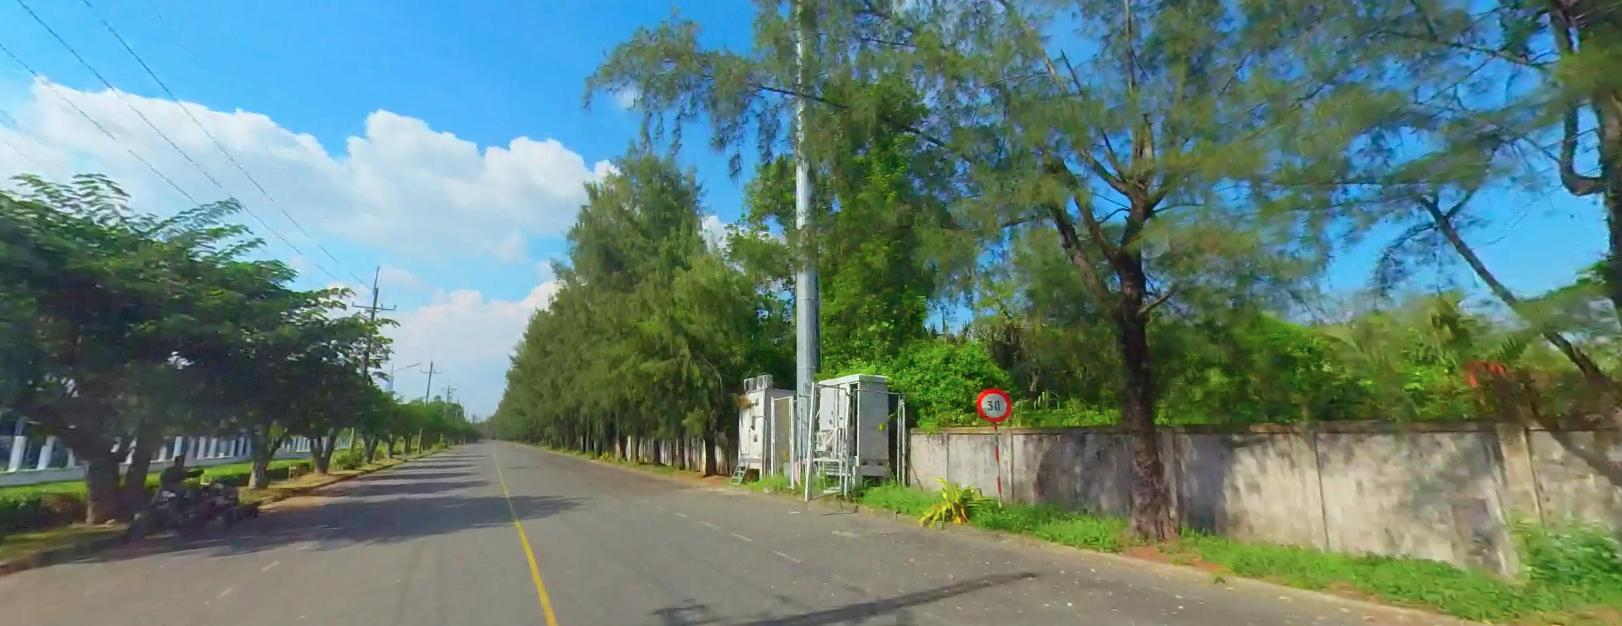Gioi han toc do: (977, 386, 1010, 420)
